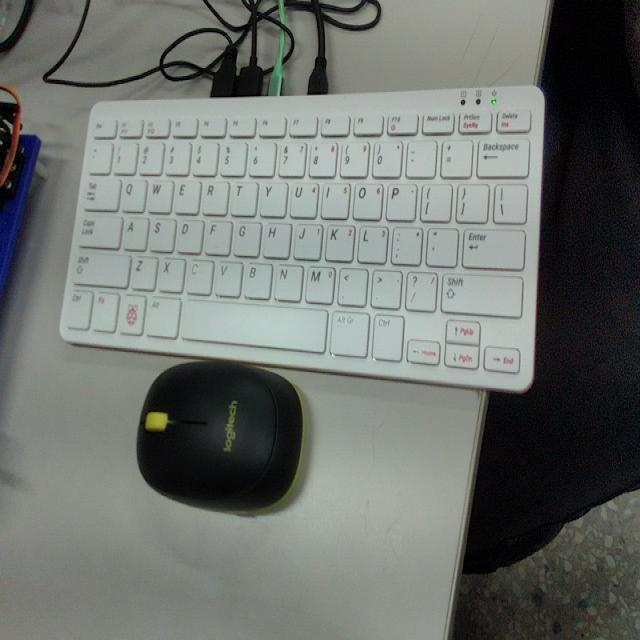keyboard: (63, 106, 537, 377)
